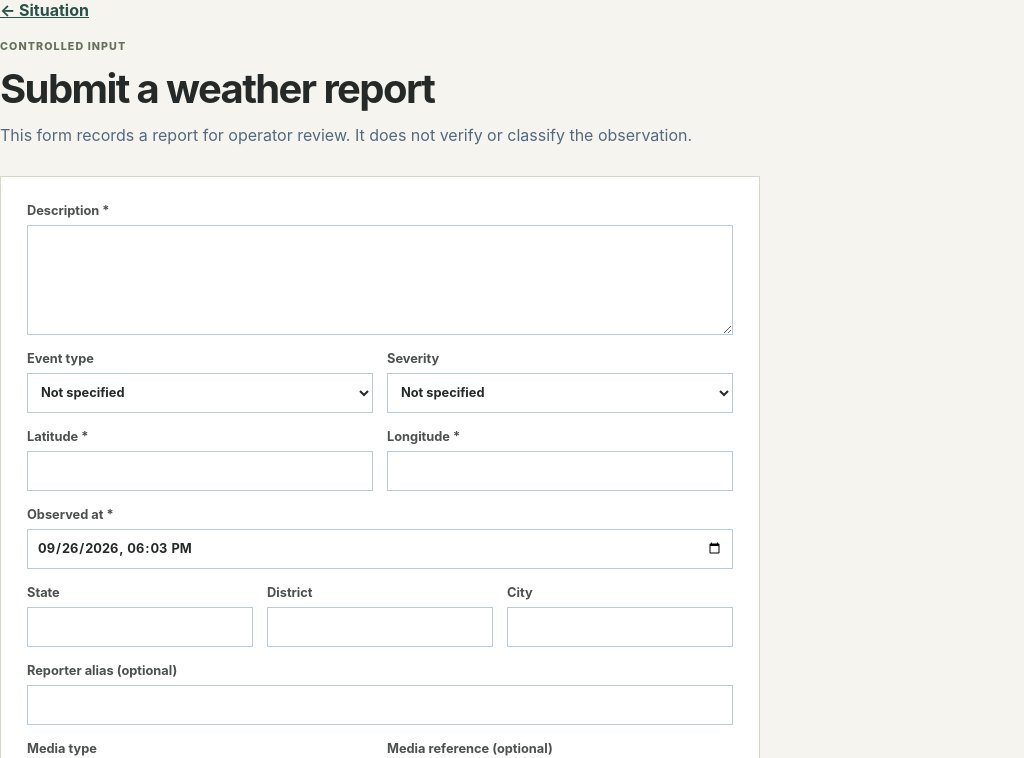
Test: citizen report shows an API failure safely
This screenshot has width=1024, height=758.
Type "Heavy rainfall" into the text box labelled "Description" at (380, 280), box [27, 224, 733, 334]
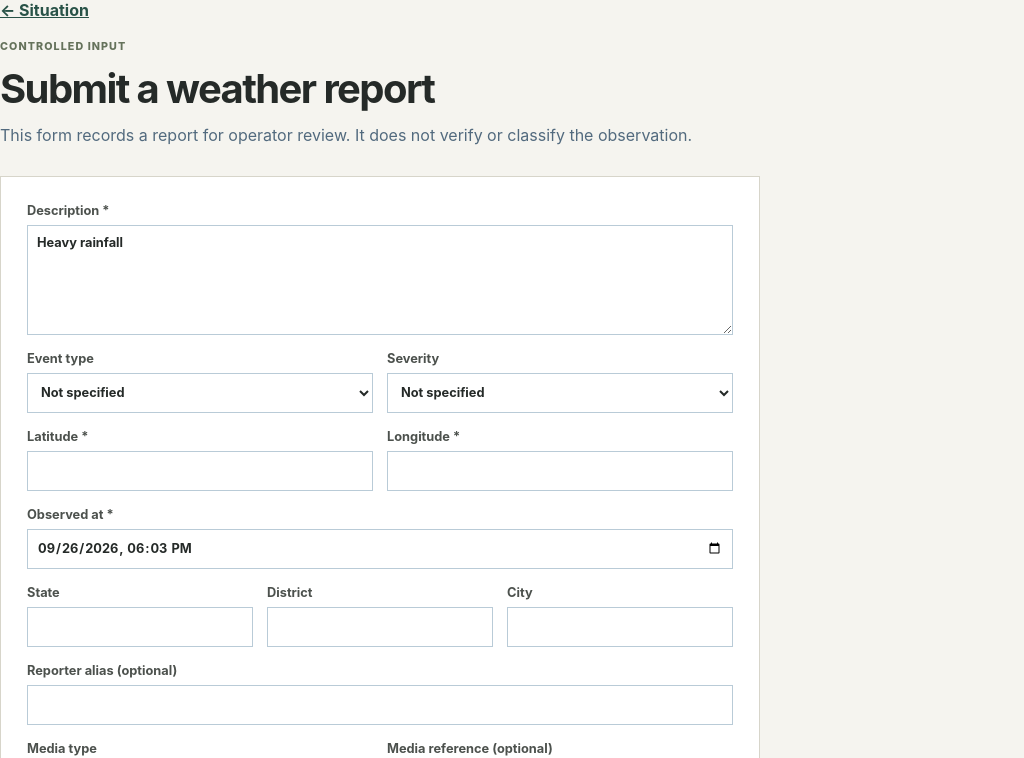
Type "19" into the number field labelled "Latitude" at (200, 470), box [27, 450, 373, 490]
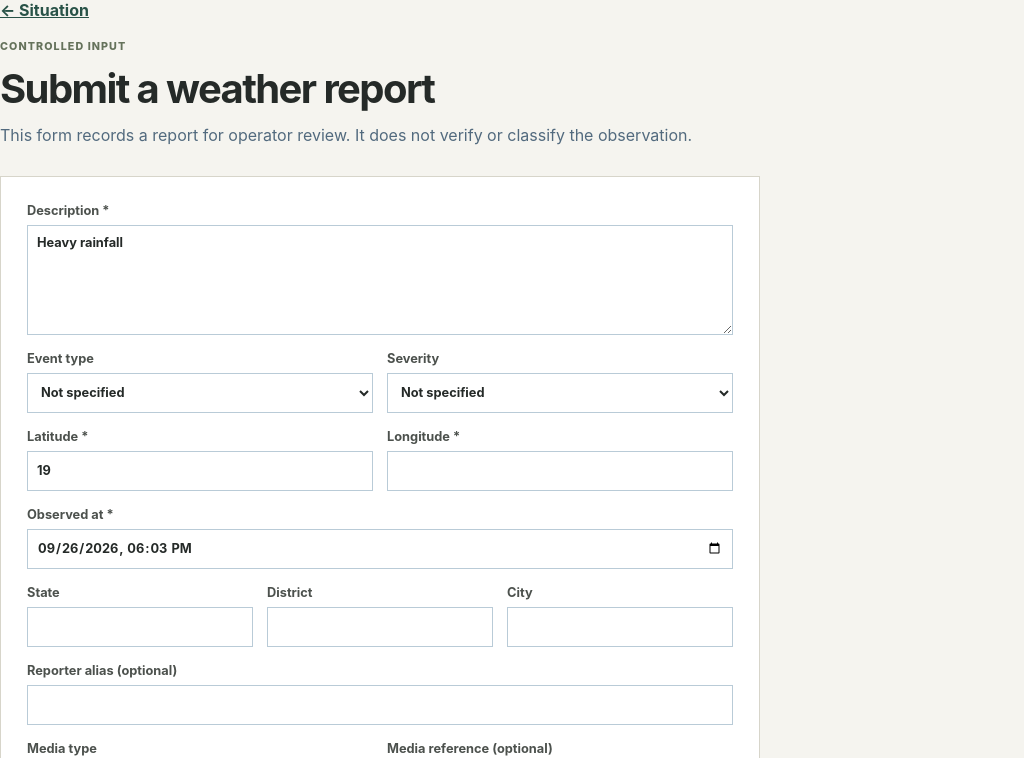
Type "72" into the number field labelled "Longitude" at (560, 470), box [387, 450, 733, 490]
(page scrolled)
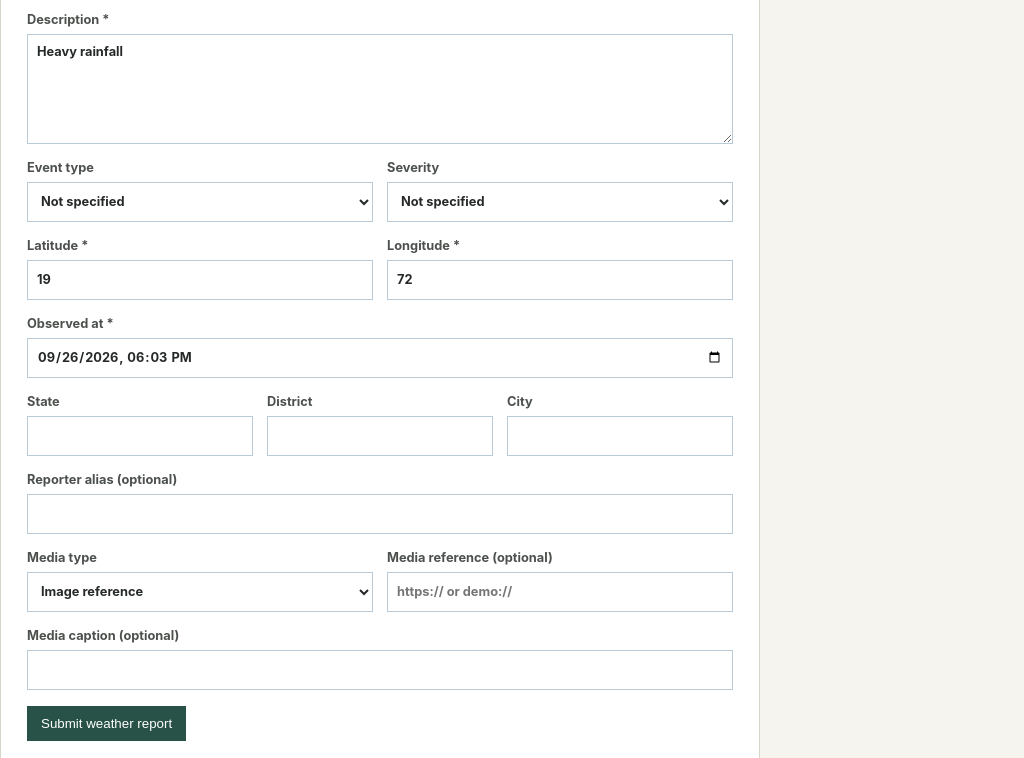
Click the button "Submit weather report" at (107, 723), box [27, 706, 186, 740]
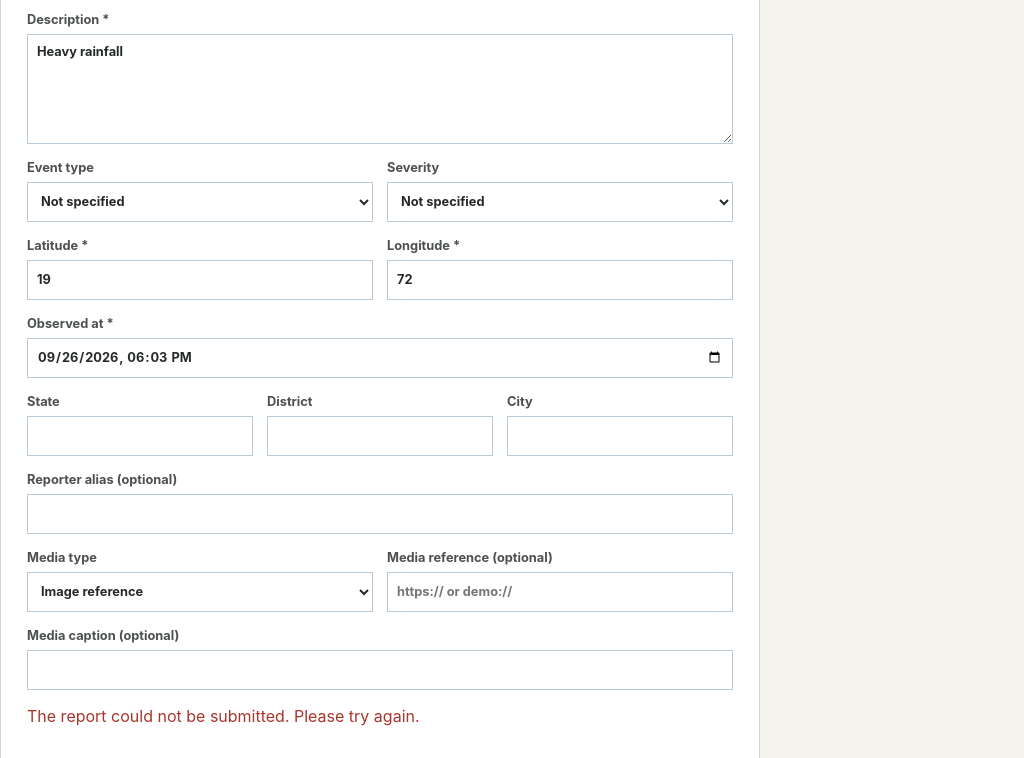
Result: the message shows "could not be submitted" at [27, 706, 420, 726]
